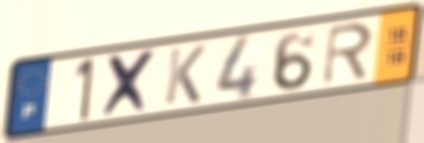1: (73, 55, 96, 123)
4: (213, 33, 261, 102)
6: (271, 28, 317, 93)
K: (161, 42, 209, 107)
R: (320, 20, 376, 88)
X: (98, 46, 162, 120)
